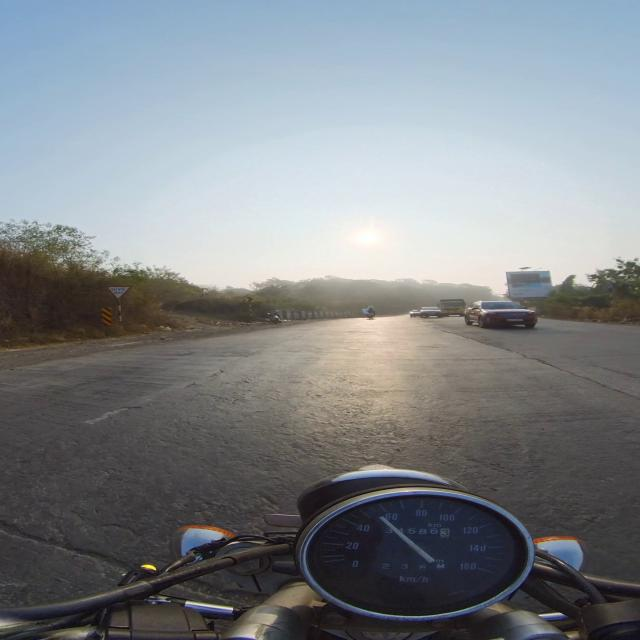car: (465, 301, 537, 328), (420, 307, 444, 317), (410, 310, 420, 318)
motorcycle: (0, 466, 639, 639)
